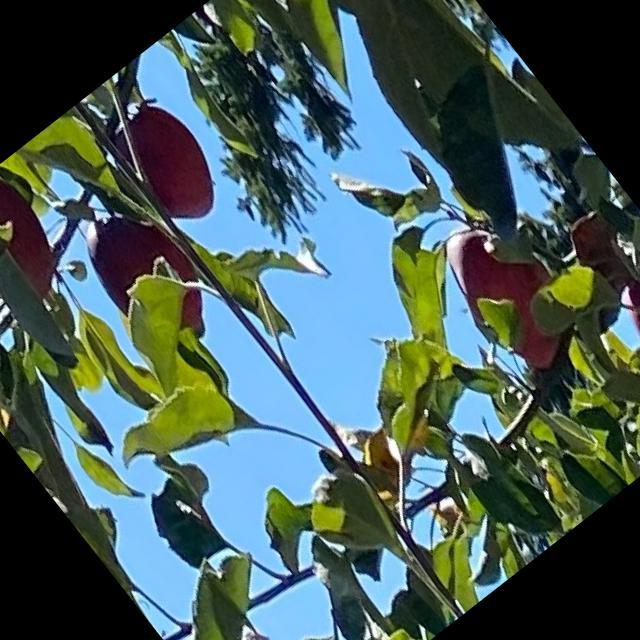100-_ripeness: (68, 190, 231, 365), (432, 204, 593, 378), (102, 95, 237, 238), (0, 164, 81, 323)
